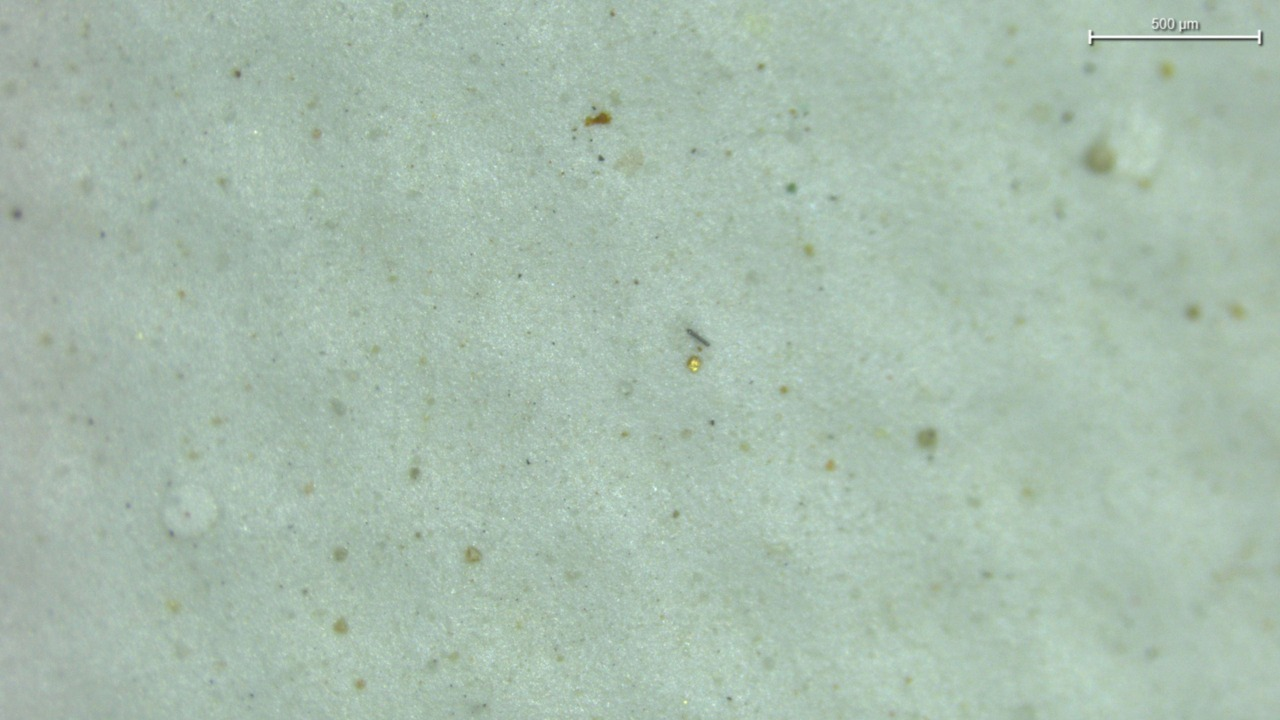microplastic_fragment: (687, 355, 701, 372)
